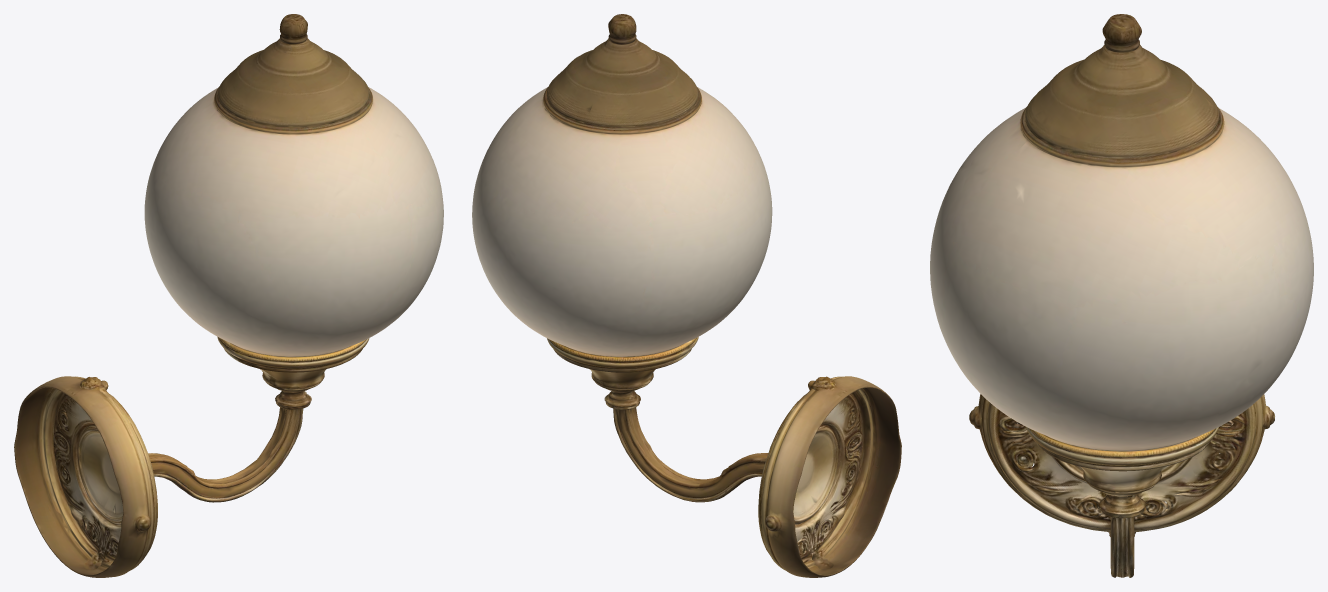
The picture shows the model from 3 angles, left to right: view 1: azimuth 30°, elevation 25°; view 2: azimuth 150°, elevation 25°; view 3: azimuth 270°, elevation 25°; orthographic projection. The views are drawn at different scales.
Parts seen in each view (by area): view 1: node_0; view 2: node_0; view 3: node_0.
Part boxes in pixels (x1,y1,x2,y2): node_0: [14, 14, 443, 577]; node_0: [472, 14, 901, 577]; node_0: [930, 14, 1313, 577].
Bounding box in the file's own units: 0.7355 × 1.01 × 0.5401.
1 material, 1 textured.
